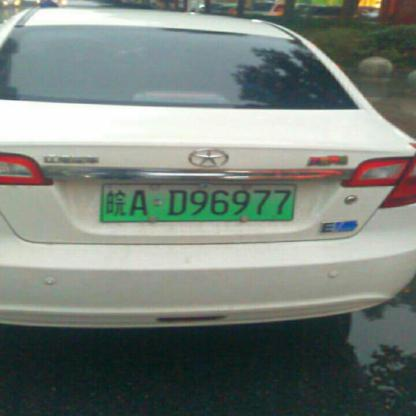lp: (101, 184, 297, 219)
